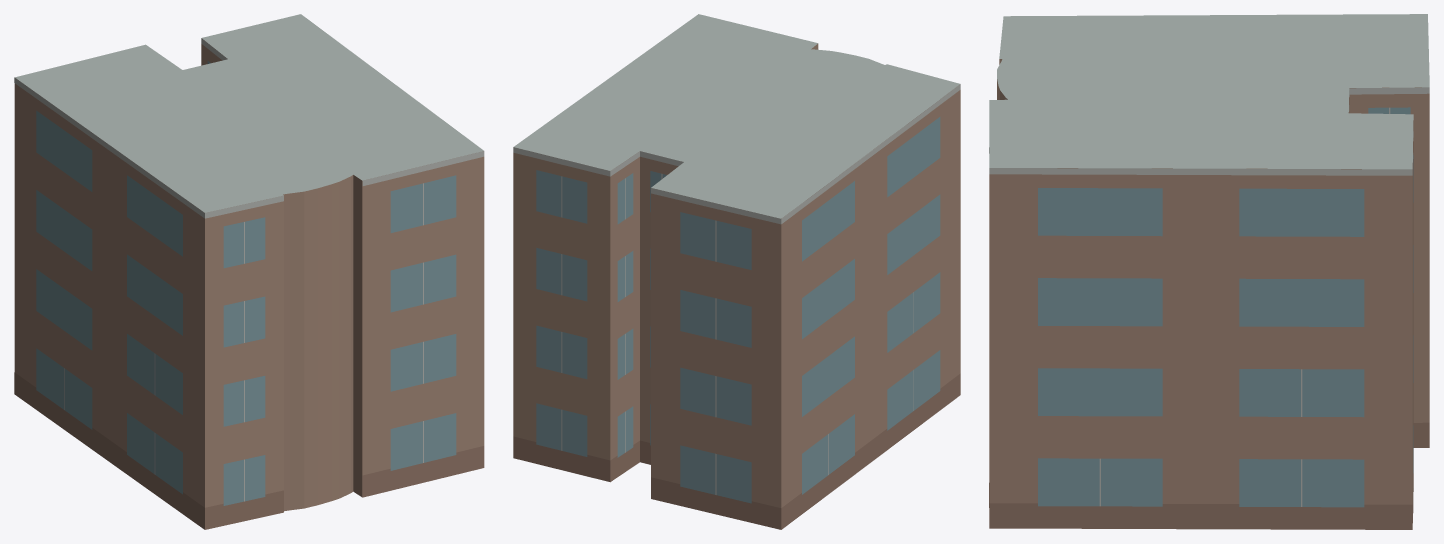
File: survey-upis-32915482.glb
The picture shows the model from 3 angles, left to right: view 1: azimuth 30°, elevation 25°; view 2: azimuth 150°, elevation 25°; view 3: azimuth 270°, elevation 25°; orthographic projection. The views are drawn at different scales.
Parts seen in each view (by area): view 1: survey-upis-32915482.tmp; view 2: survey-upis-32915482.tmp; view 3: survey-upis-32915482.tmp.
Boxes of the visible parts, left/top/right/bottom form: survey-upis-32915482.tmp: left=14, top=14, right=484, bottom=529; survey-upis-32915482.tmp: left=513, top=14, right=960, bottom=529; survey-upis-32915482.tmp: left=989, top=14, right=1429, bottom=529.
Size of the model in its own units: 12.52 by 13.55 by 15.02.
